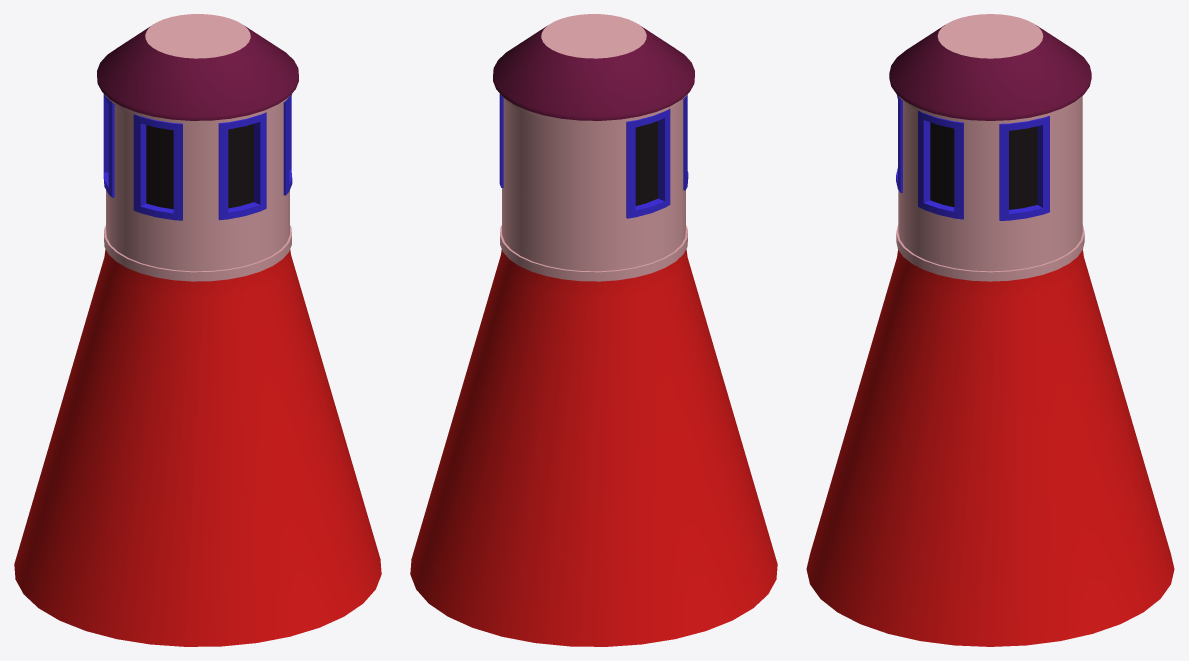
The model's file is Turm_02.fbx.
3 views of the same model, side by side, from view 1: azimuth 30°, elevation 25°; view 2: azimuth 150°, elevation 25°; view 3: azimuth 270°, elevation 25° (orthographic).
Visible parts, largest first — view 1: Cone; view 2: Cone; view 3: Cone.
Part boxes in pixels (bbox=[...]): Cone: bbox=[14, 14, 381, 646]; Cone: bbox=[410, 14, 777, 646]; Cone: bbox=[806, 14, 1174, 646].
Bounding box in the file's own units: 1050 × 1677 × 1050.
